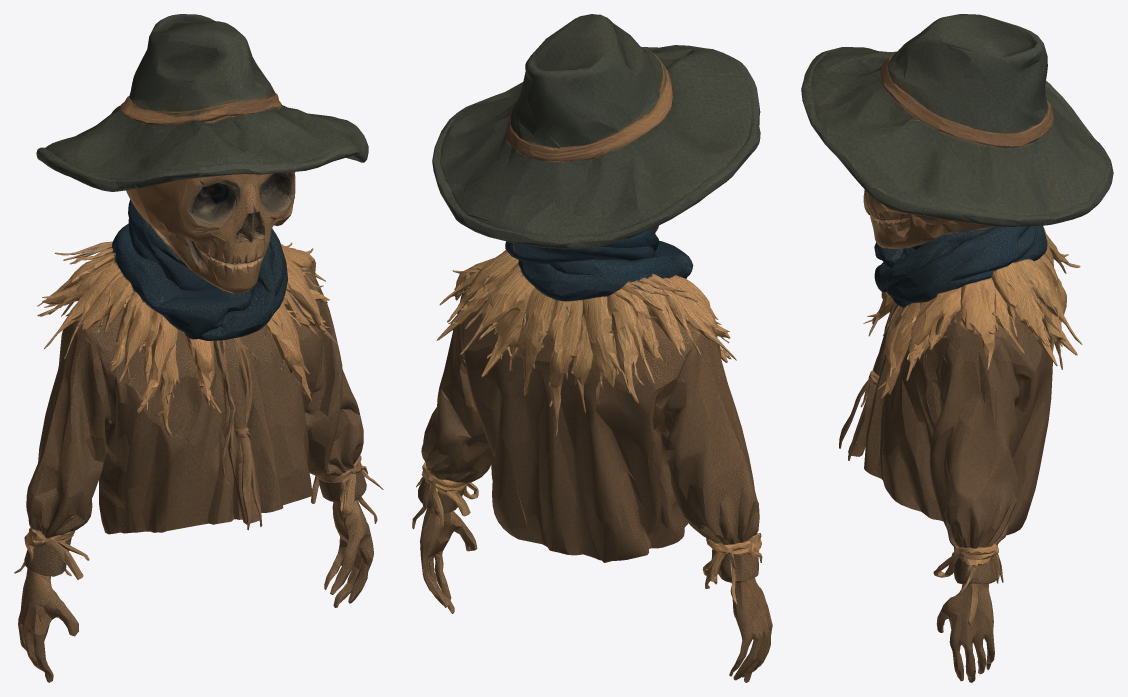
Rendered from scarecrow_real.glb.
The picture shows the model from 3 angles, left to right: view 1: azimuth 30°, elevation 25°; view 2: azimuth 150°, elevation 25°; view 3: azimuth 270°, elevation 25°; orthographic projection. The views are drawn at different scales.
Parts seen in each view (by area): view 1: scarecrow_real_0; view 2: scarecrow_real_0; view 3: scarecrow_real_0.
Boxes of the visible parts, x1=… form: scarecrow_real_0: x1=14, y1=14, x2=383, y2=682; scarecrow_real_0: x1=412, y1=14, x2=772, y2=682; scarecrow_real_0: x1=801, y1=14, x2=1113, y2=682.
Bounding box in the file's own units: 1.02 × 1.7 × 0.7993.
Materials: 1 (1 with a texture image).
